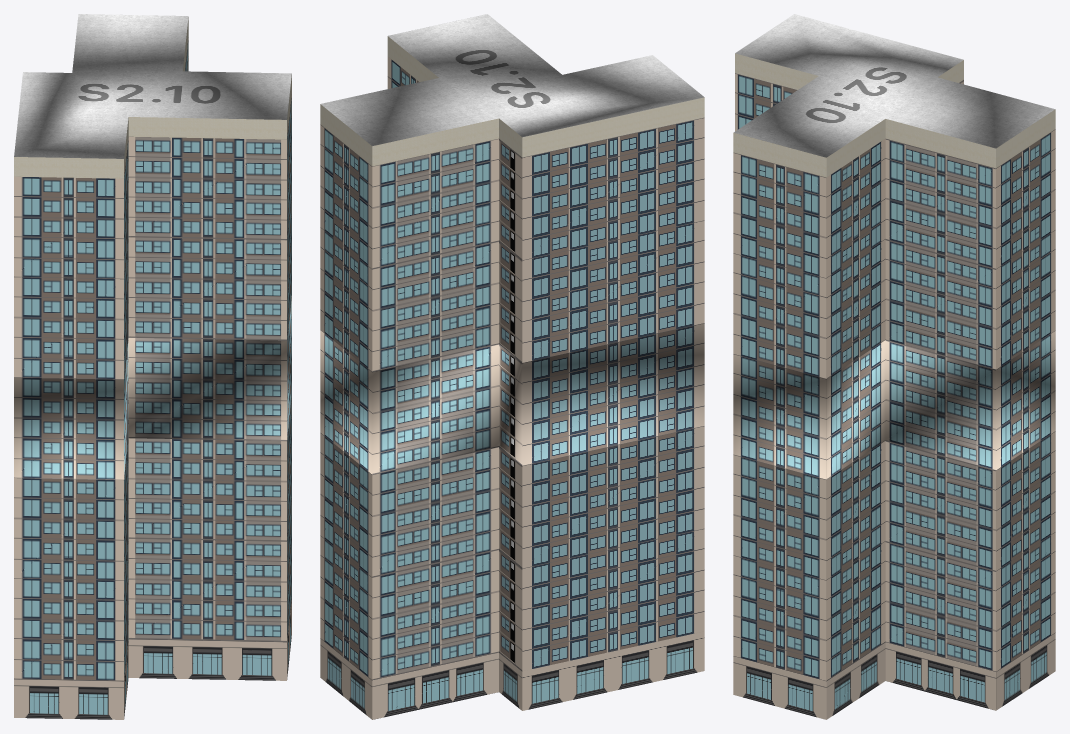
The picture shows the model from 3 angles, left to right: view 1: azimuth 30°, elevation 25°; view 2: azimuth 150°, elevation 25°; view 3: azimuth 270°, elevation 25°; orthographic projection. The views are drawn at different scales.
Parts seen in each view (by area): view 1: Asset3DLoader.sceneRoot; view 2: Asset3DLoader.sceneRoot; view 3: Asset3DLoader.sceneRoot.
Boxes of the visible parts, bbox=[...] form: Asset3DLoader.sceneRoot: bbox=[14, 14, 291, 719]; Asset3DLoader.sceneRoot: bbox=[320, 14, 704, 719]; Asset3DLoader.sceneRoot: bbox=[733, 14, 1055, 719].
Bounding box in the file's own units: 52.38 × 95.5 × 49.58.
Materials: 1 (1 with a texture image).
